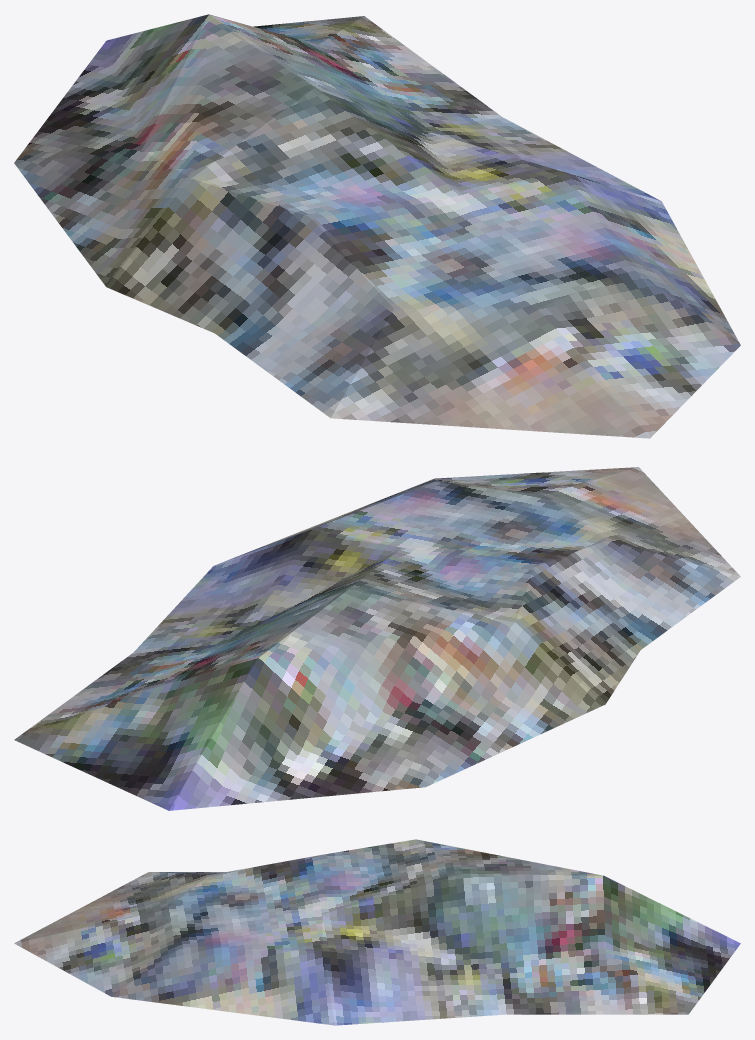
Rendered from trash_pile.glb.
The picture shows the model from 3 angles, top to bottom: view 1: azimuth 30°, elevation 25°; view 2: azimuth 150°, elevation 25°; view 3: azimuth 270°, elevation 25°; orthographic projection. The views are drawn at different scales.
Parts seen in each view (by area): view 1: Cube.001; view 2: Cube.001; view 3: Cube.001.
Boxes of the visible parts, x1,y1,x2,y2 form: Cube.001: [14, 14, 740, 438]; Cube.001: [14, 467, 740, 810]; Cube.001: [14, 839, 740, 1025].
Bounding box in the file's own units: 4.61 × 0.9113 × 8.61.
1 material, 1 textured.
